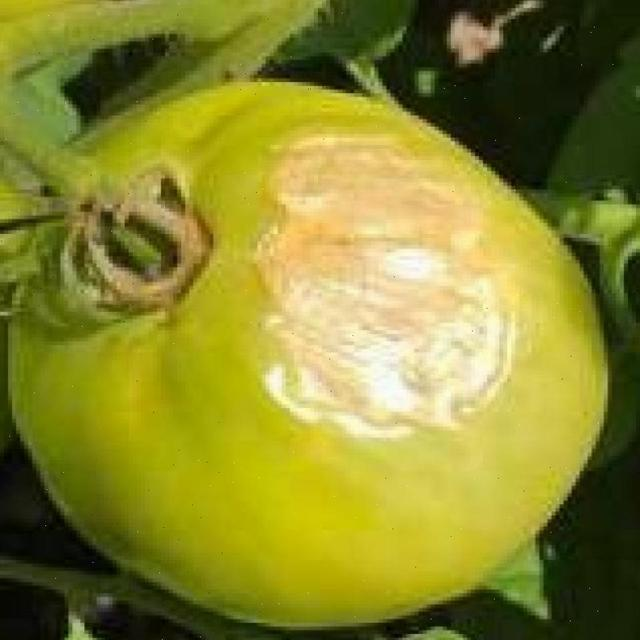Sunscald Fruit: (148, 76, 351, 293)
